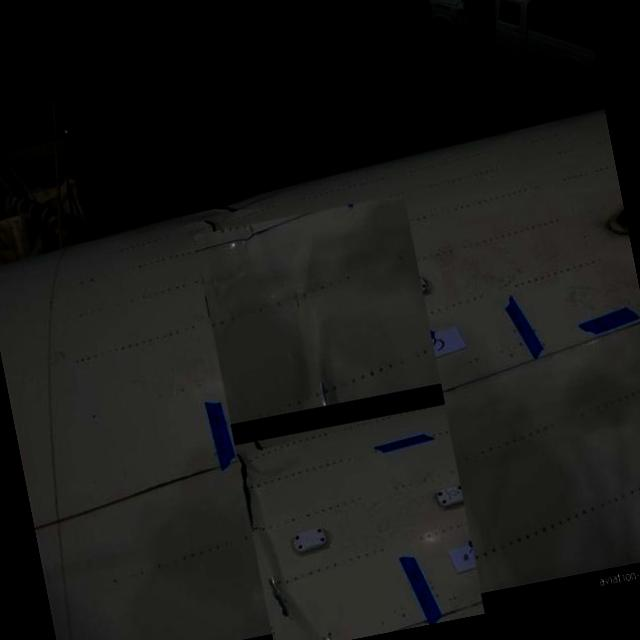crack: (230, 454, 262, 536), (268, 576, 292, 624), (202, 214, 220, 233), (251, 439, 268, 457)
